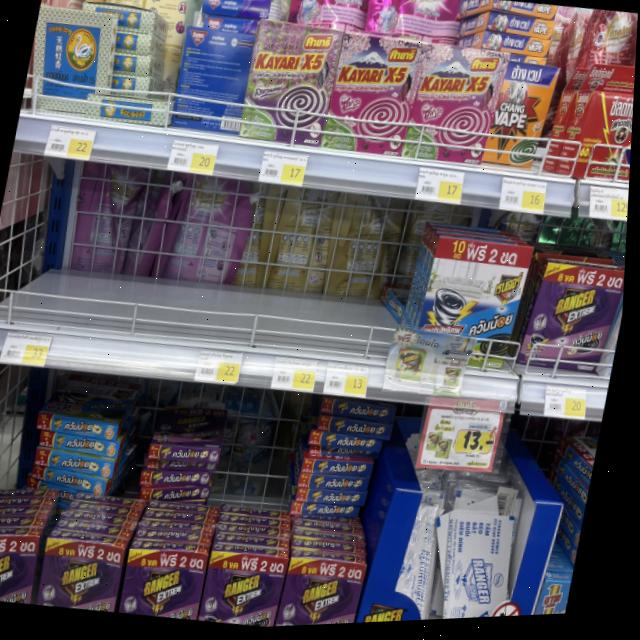empty_shelf: (0, 187, 433, 363)
